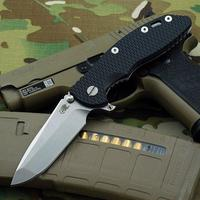knife: (7, 11, 187, 192)
